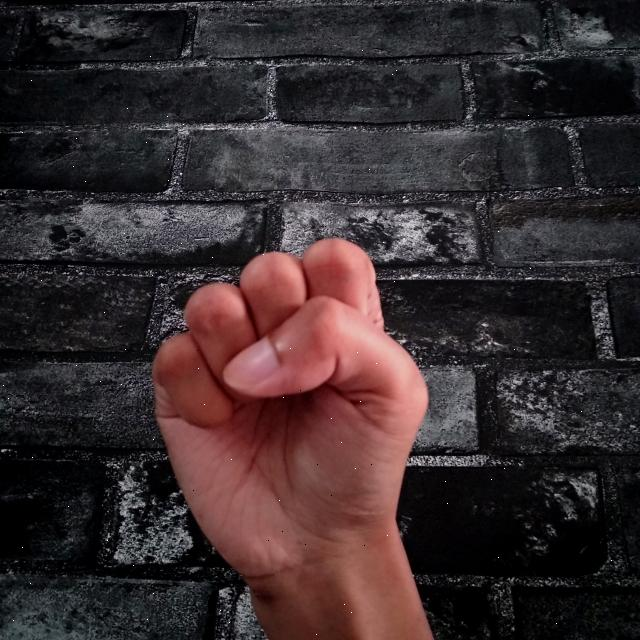S: (138, 219, 451, 640)
